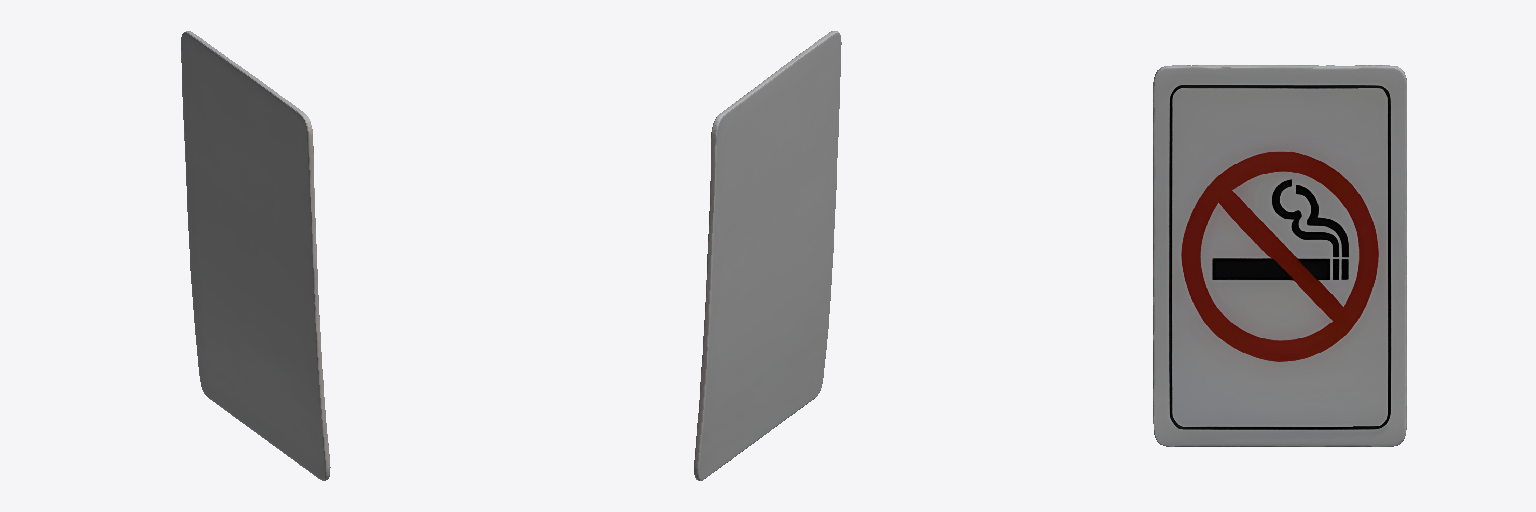
3 views of the same model, side by side, from view 1: azimuth 30°, elevation 25°; view 2: azimuth 150°, elevation 25°; view 3: azimuth 270°, elevation 25° (orthographic).
Parts seen in each view (by area): view 1: tripo_node_dc935544-330c-4361-8ac0-77ee05d72de9; view 2: tripo_node_dc935544-330c-4361-8ac0-77ee05d72de9; view 3: tripo_node_dc935544-330c-4361-8ac0-77ee05d72de9.
Boxes of the visible parts, x1=… form: tripo_node_dc935544-330c-4361-8ac0-77ee05d72de9: x1=181, y1=31, x2=330, y2=480; tripo_node_dc935544-330c-4361-8ac0-77ee05d72de9: x1=694, y1=31, x2=841, y2=480; tripo_node_dc935544-330c-4361-8ac0-77ee05d72de9: x1=1153, y1=65, x2=1406, y2=446.
Size of the model in its own units: 0.0691 by 1 by 0.62.
Materials: 1 (1 with a texture image).